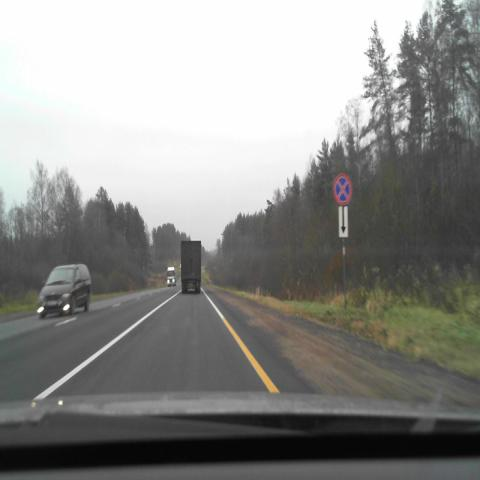8_2_3: (338, 206, 348, 237)
